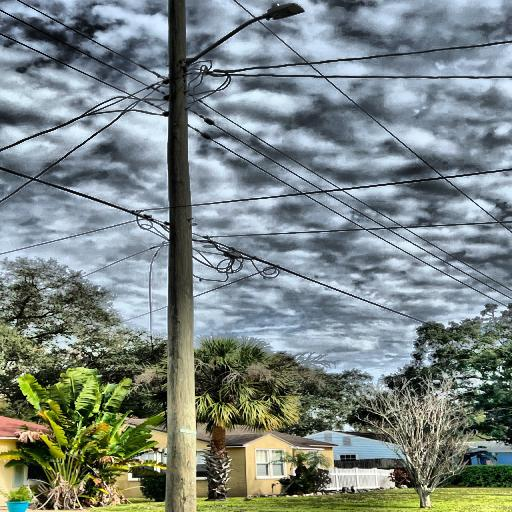pole: (157, 0, 219, 512)
street light: (180, 2, 306, 70)
